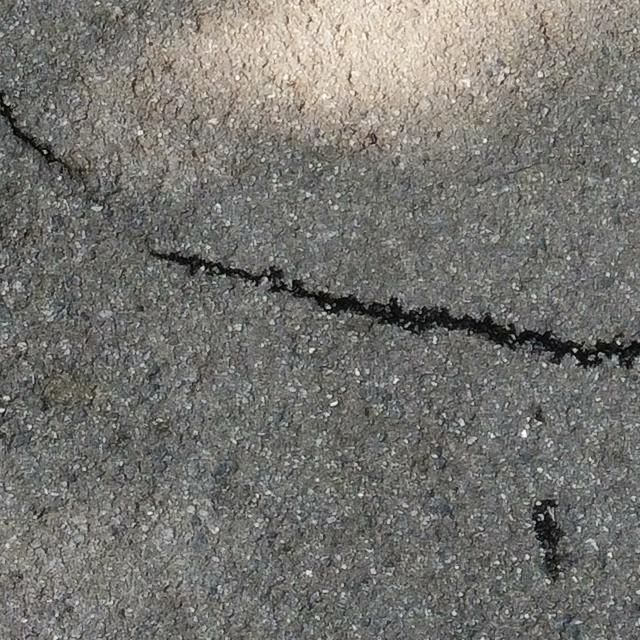TransverseCrack: (149, 250, 640, 367), (1, 93, 84, 172)
